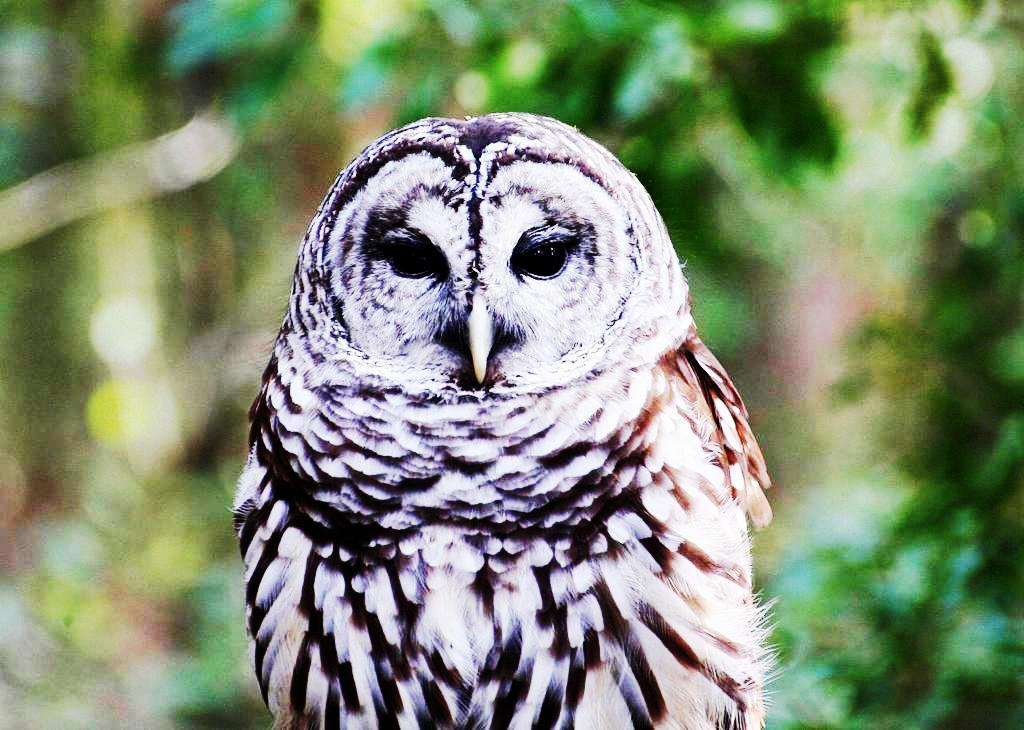Owl: (225, 111, 787, 730)
